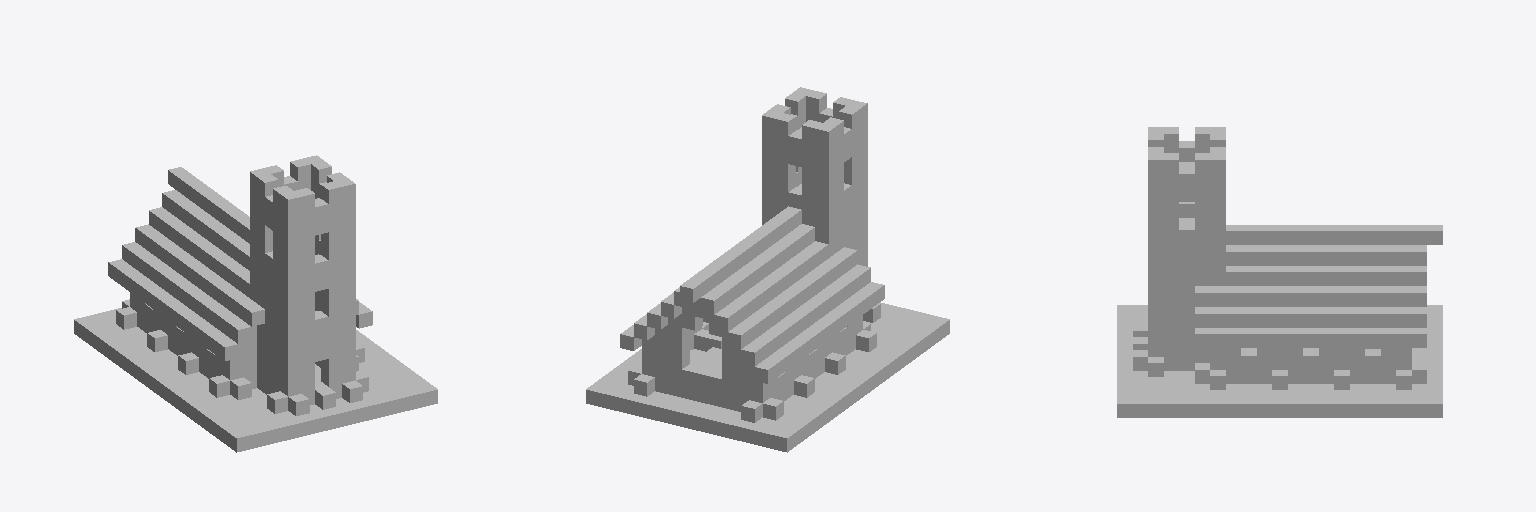
File: mesh_wesh_church_01.obj
3 renders of one model, left to right at view 1: azimuth 30°, elevation 25°; view 2: azimuth 150°, elevation 25°; view 3: azimuth 270°, elevation 25°, orthographic.
Size of the model in its own units: 0.4688 by 0.5 by 0.6562.